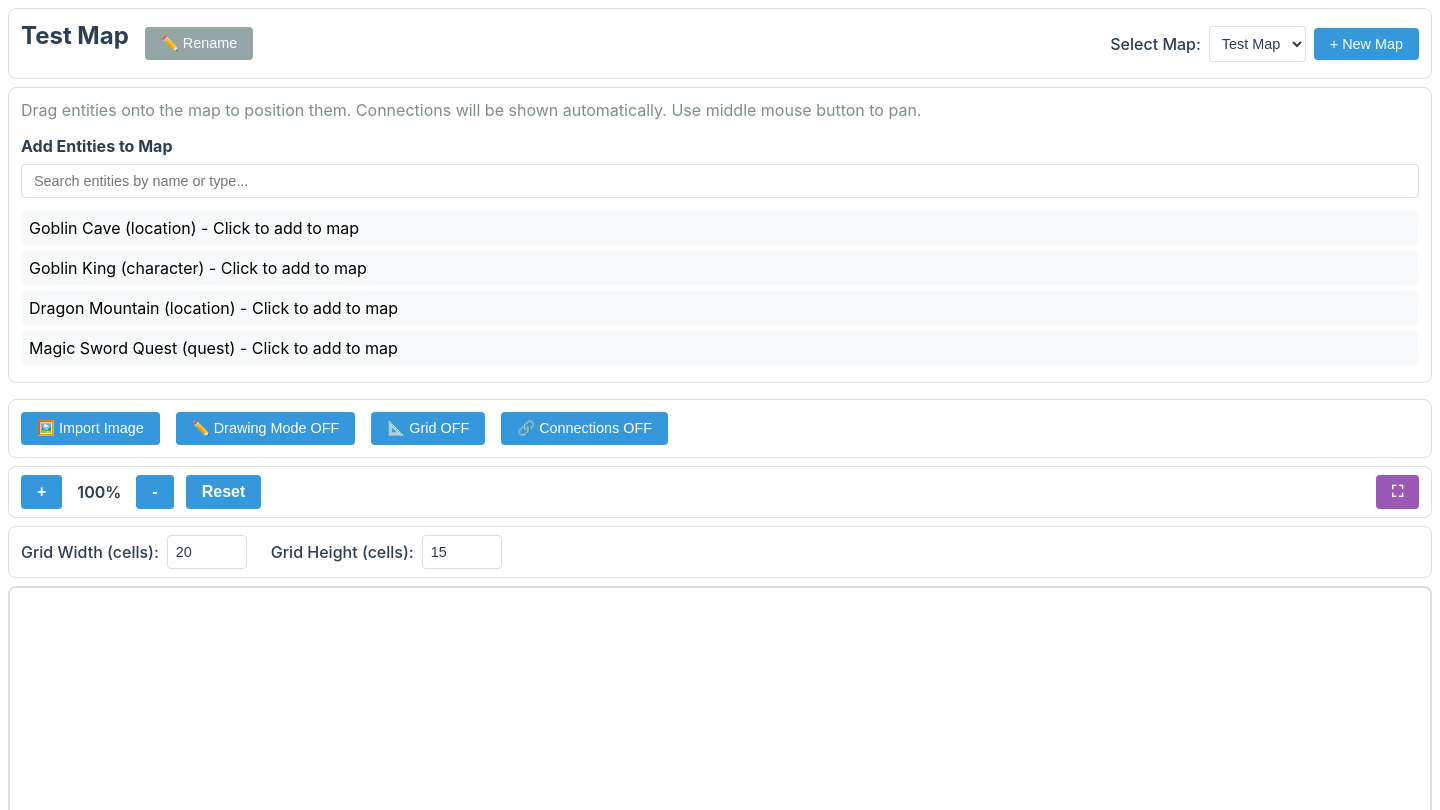
Test case: MapEditor Entity Filter › Entity Filter Input › clears filter when clear button is clicked
The width and height of the screenshot is (1440, 810).
# Type in the filter
Type "Goblin" into the field with placeholder "Search entities by name or type..." at [720, 181], box [21, 164, 1419, 198]
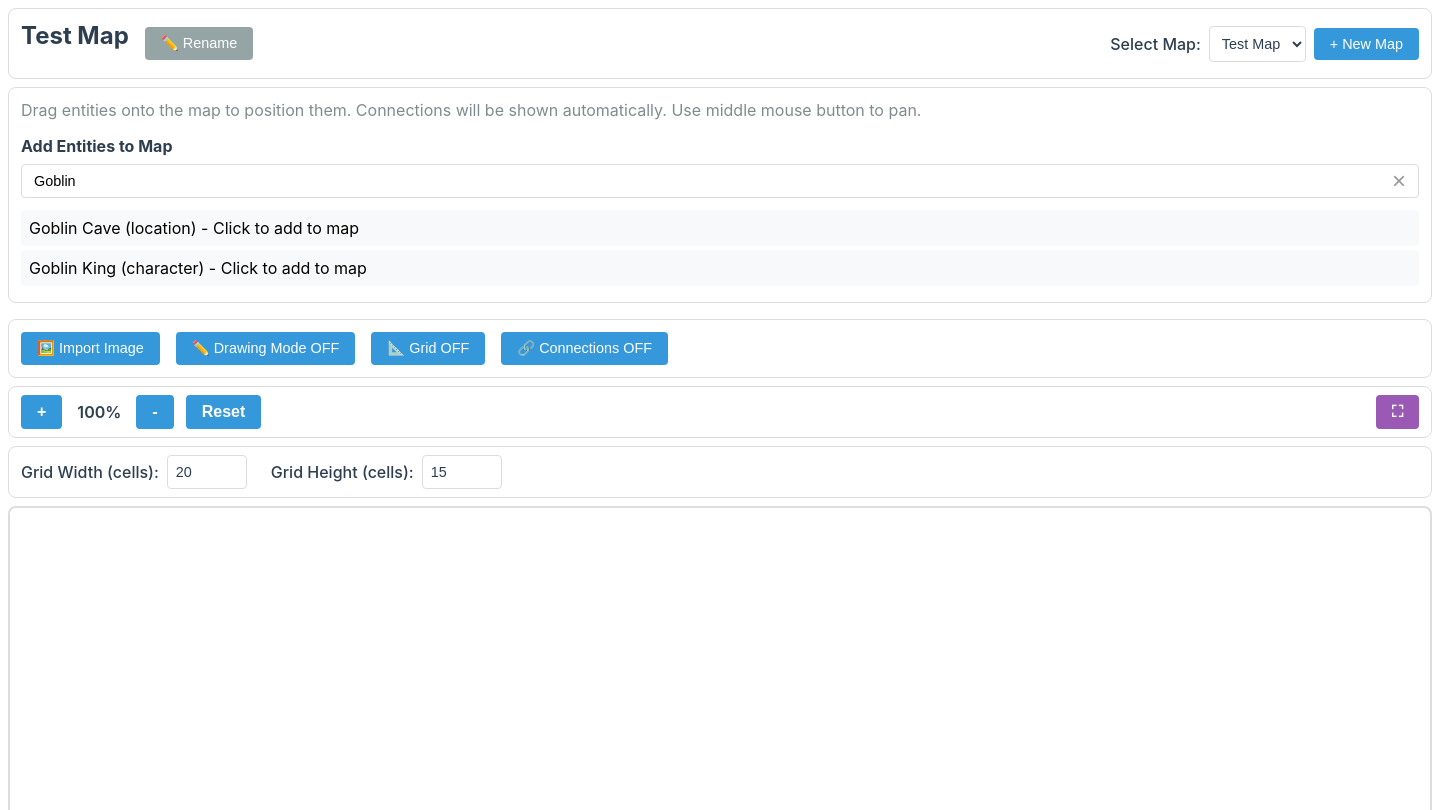
# Click clear button
Click the button titled "Clear filter" at [1399, 181], box [1387, 169, 1411, 193]
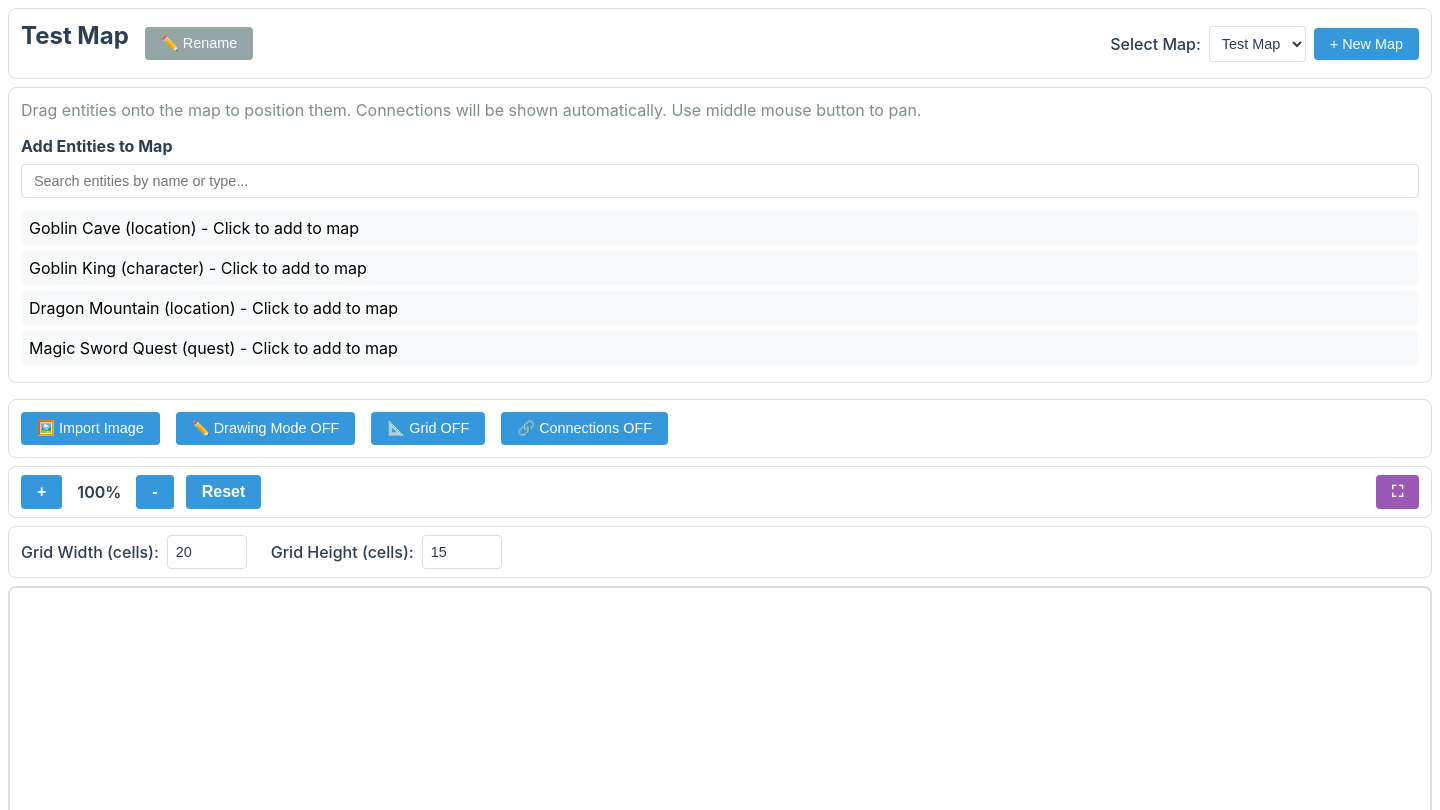
Expected: the field with placeholder "Search entities by name or type..." is empty, [21, 164, 1419, 198]
Expected: the list item "Dragon Mountain (location) - Click to add to map" is shown, [21, 290, 1419, 326]
Expected: the list item "Magic Sword Quest (quest) - Click to add to map" is shown, [21, 330, 1419, 366]
